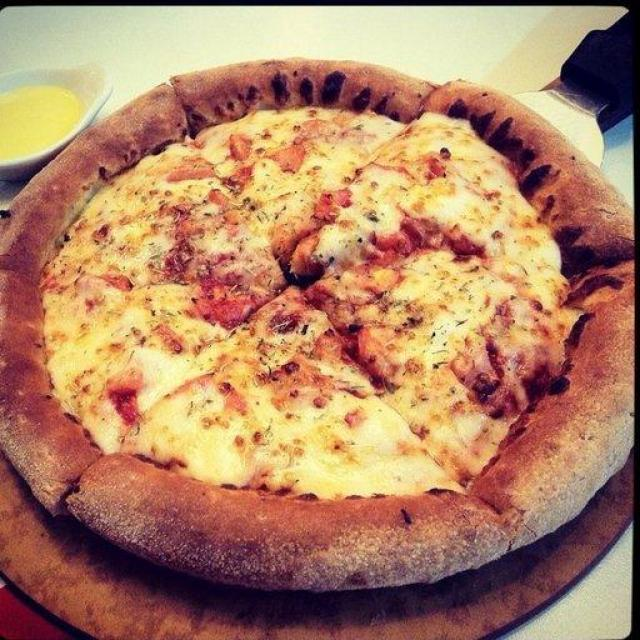food_waste: (1, 15, 640, 640)
